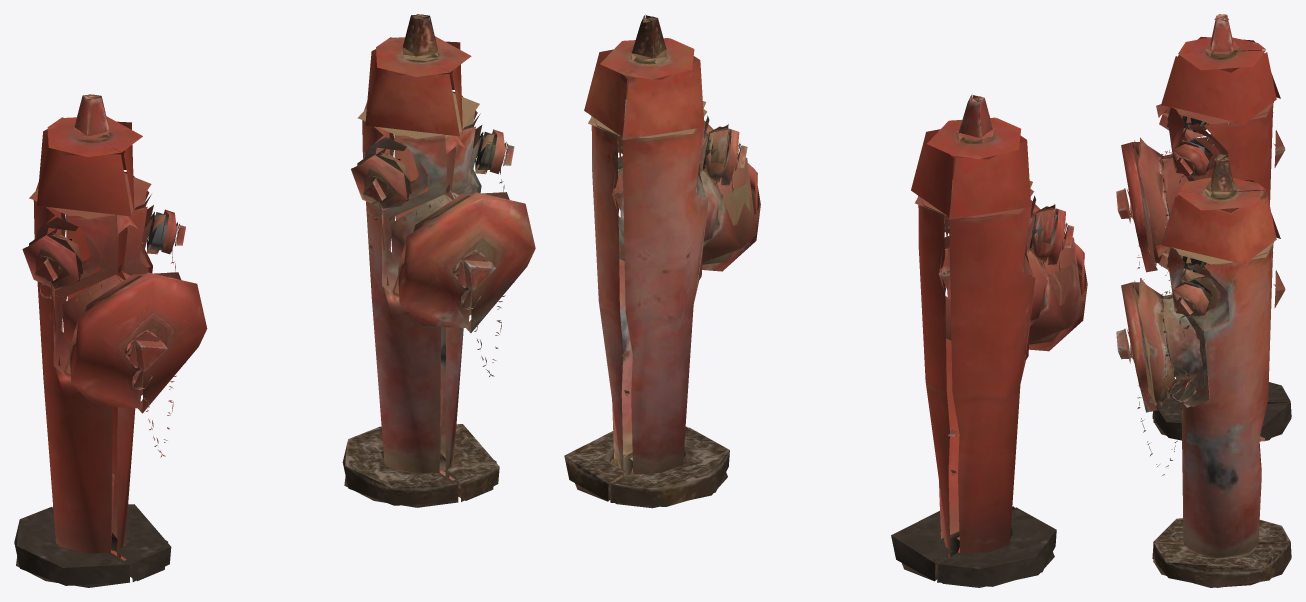
File: fire_hydrant.glb
The picture shows the model from 3 angles, left to right: view 1: azimuth 30°, elevation 25°; view 2: azimuth 150°, elevation 25°; view 3: azimuth 270°, elevation 25°; orthographic projection. The views are drawn at different scales.
Visible parts, largest first — view 1: fire_hydrant_aged, fire_hydrant, fire_hydrant_cap_01, fire_hydrant_cap_01_aged, fire_hydrant_cap_03_aged, fire_hydrant_cap_03, fire_hydrant_cap_02_aged, fire_hydrant_cap_02; view 2: fire_hydrant, fire_hydrant_aged, fire_hydrant_cap_01_aged, fire_hydrant_cap_01, fire_hydrant_cap_03, fire_hydrant_cap_03_aged; view 3: fire_hydrant_aged, fire_hydrant, fire_hydrant_cap_01_aged, fire_hydrant_cap_01, fire_hydrant_cap_02, fire_hydrant_cap_02_aged, fire_hydrant_chain_aged.
Part boxes in pixels (x1=…): fire_hydrant_aged: x1=342, y1=14, x2=514, y2=507; fire_hydrant: x1=14, y1=94, x2=185, y2=587; fire_hydrant_cap_01: x1=69, y1=272, x2=207, y2=413; fire_hydrant_cap_01_aged: x1=398, y1=192, x2=535, y2=332; fire_hydrant_cap_03_aged: x1=351, y1=153, x2=410, y2=208; fire_hydrant_cap_03: x1=22, y1=233, x2=81, y2=288; fire_hydrant_cap_02_aged: x1=485, y1=129, x2=514, y2=174; fire_hydrant_cap_02: x1=157, y1=209, x2=185, y2=254; fire_hydrant: x1=891, y1=94, x2=1083, y2=587; fire_hydrant_aged: x1=564, y1=14, x2=756, y2=508; fire_hydrant_cap_01_aged: x1=702, y1=120, x2=760, y2=271; fire_hydrant_cap_01: x1=1029, y1=200, x2=1087, y2=351; fire_hydrant_cap_03: x1=1043, y1=204, x2=1074, y2=264; fire_hydrant_cap_03_aged: x1=716, y1=124, x2=747, y2=184; fire_hydrant_aged: x1=1138, y1=154, x2=1291, y2=587; fire_hydrant: x1=1138, y1=14, x2=1291, y2=440; fire_hydrant_cap_01_aged: x1=1116, y1=280, x2=1157, y2=412; fire_hydrant_cap_01: x1=1116, y1=140, x2=1157, y2=272; fire_hydrant_cap_02: x1=1172, y1=141, x2=1208, y2=176; fire_hydrant_cap_02_aged: x1=1172, y1=282, x2=1208, y2=316; fire_hydrant_chain_aged: x1=1128, y1=290, x2=1196, y2=475.
Size of the model in its own units: 0.8777 by 0.8007 by 0.3173.
Materials: 2 (2 with a texture image).
